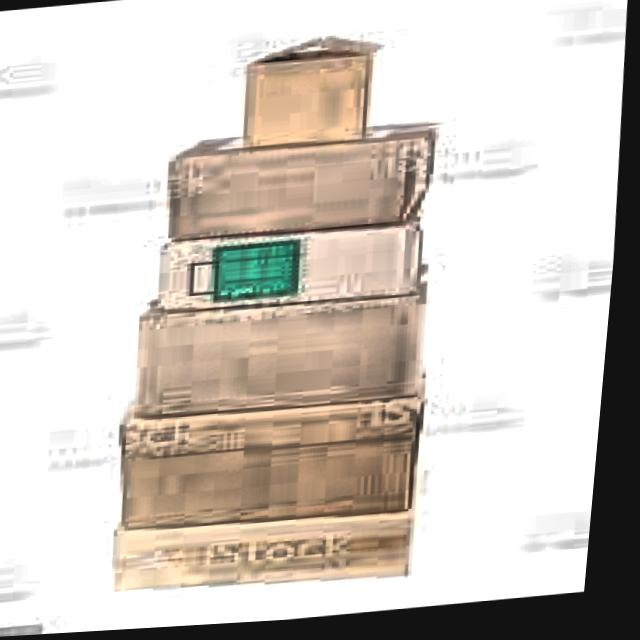Cardbox: (89, 4, 500, 617)
